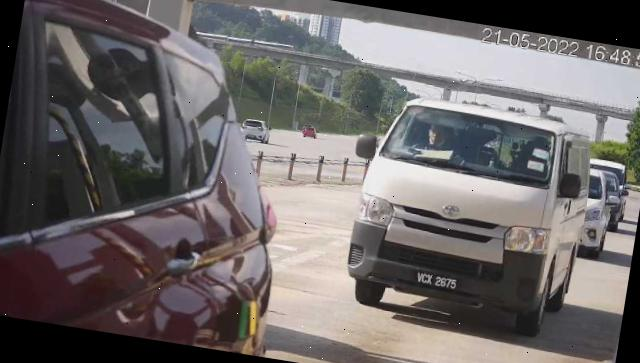License_Plate: (413, 269, 464, 297)
van: (341, 91, 600, 344)
